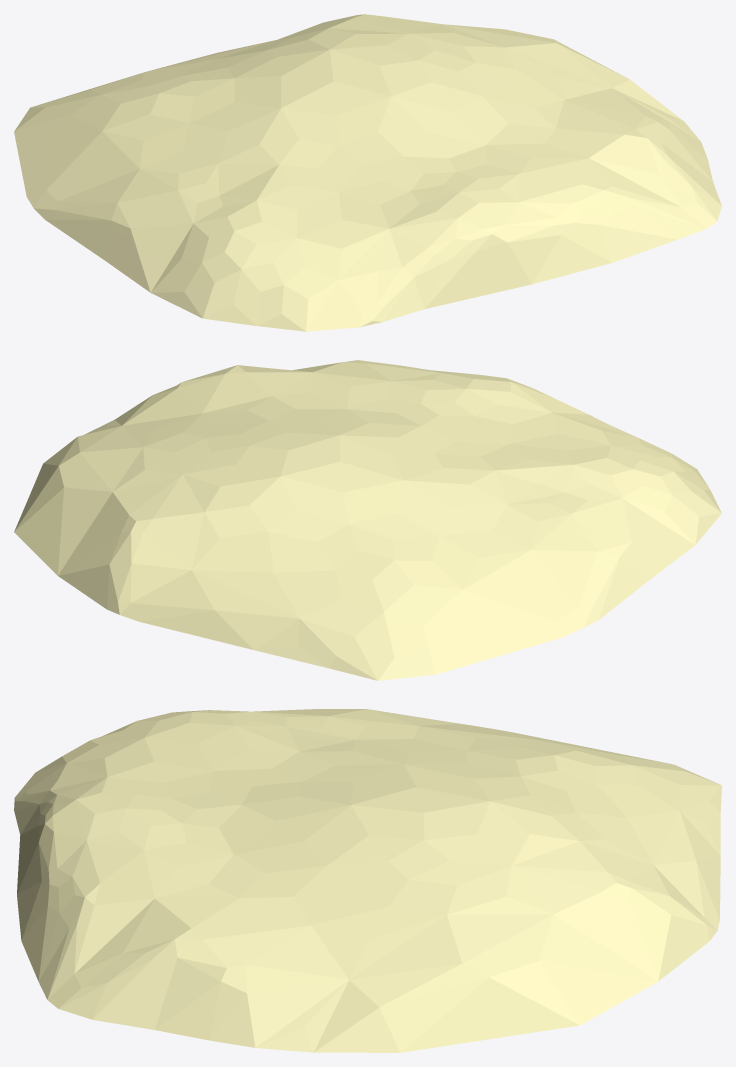
Rendered from Hill_029.glb.
The picture shows the model from 3 angles, top to bottom: view 1: azimuth 30°, elevation 25°; view 2: azimuth 150°, elevation 25°; view 3: azimuth 270°, elevation 25°; orthographic projection. The views are drawn at different scales.
Visible parts, largest first — view 1: Hill_029; view 2: Hill_029; view 3: Hill_029.
Part boxes in pixels (x1,y1,x2,y2): Hill_029: (14,14,721,331); Hill_029: (14,360,721,680); Hill_029: (14,709,721,1052).
Size of the model in its own units: 10.42 by 1.43 by 9.56.
Materials: 1 (1 with a texture image).
